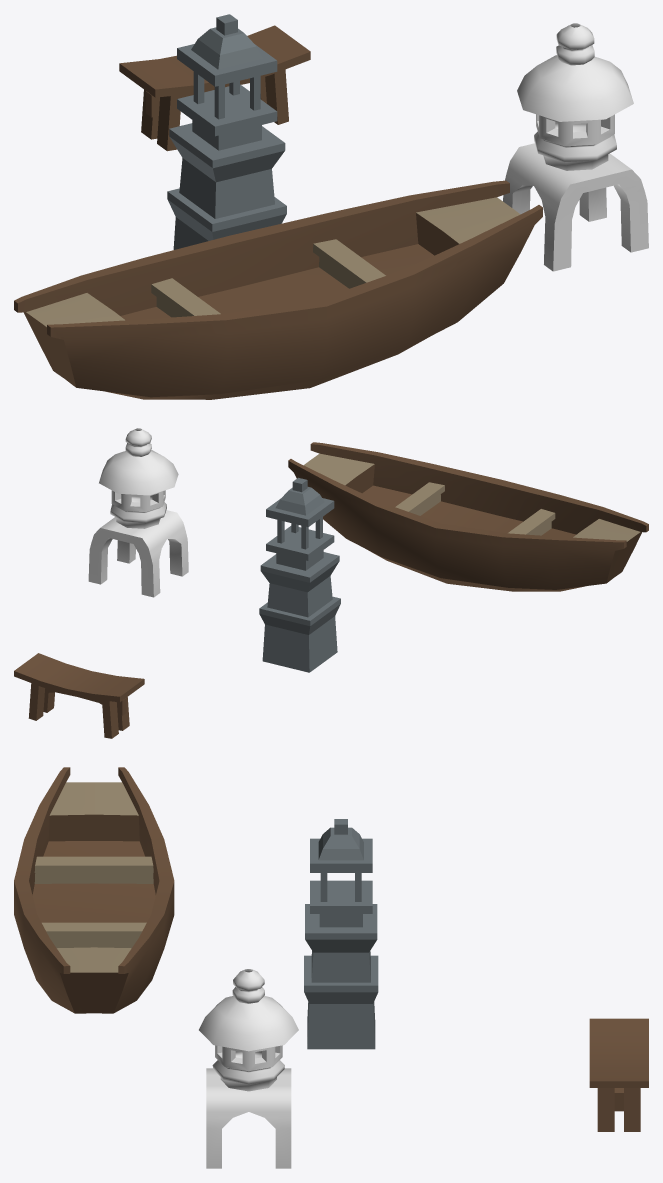
Rendered from Props.fbx.
The picture shows the model from 3 angles, top to bottom: view 1: azimuth 30°, elevation 25°; view 2: azimuth 150°, elevation 25°; view 3: azimuth 270°, elevation 25°; orthographic projection. The views are drawn at different scales.
Parts seen in each view (by area): view 1: boat.002, Lantern, lamp, bench; view 2: boat.002, lamp, Lantern, bench; view 3: boat.002, lamp, Lantern, bench.
Part boxes in pixels (left/top/right/bottom): boat.002: left=14, top=180, right=542, bottom=399; Lantern: left=503, top=23, right=648, bottom=271; lamp: left=167, top=14, right=286, bottom=249; bench: left=119, top=25, right=310, bottom=151; boat.002: left=288, top=442, right=648, bottom=591; lamp: left=259, top=477, right=340, bottom=672; Lantern: left=88, top=428, right=188, bottom=597; bench: left=14, top=653, right=144, bottom=738; boat.002: left=14, top=767, right=174, bottom=1013; lamp: left=304, top=819, right=378, bottom=1049; Lantern: left=199, top=969, right=298, bottom=1168; bench: left=589, top=1018, right=648, bottom=1131.
Size of the model in its own units: 443 by 166 by 427.
